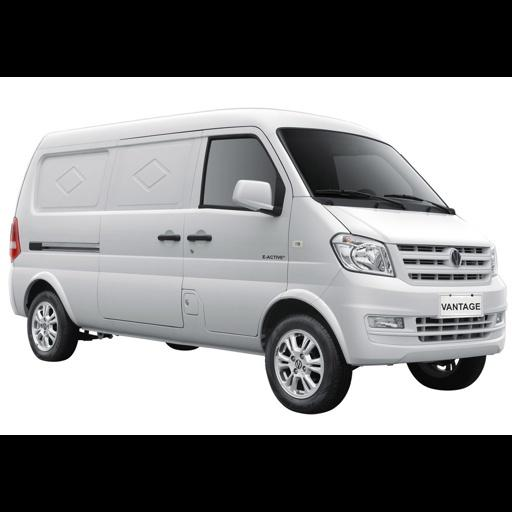van: (10, 109, 505, 412)
